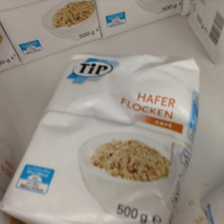cereal: (1, 54, 202, 223)
